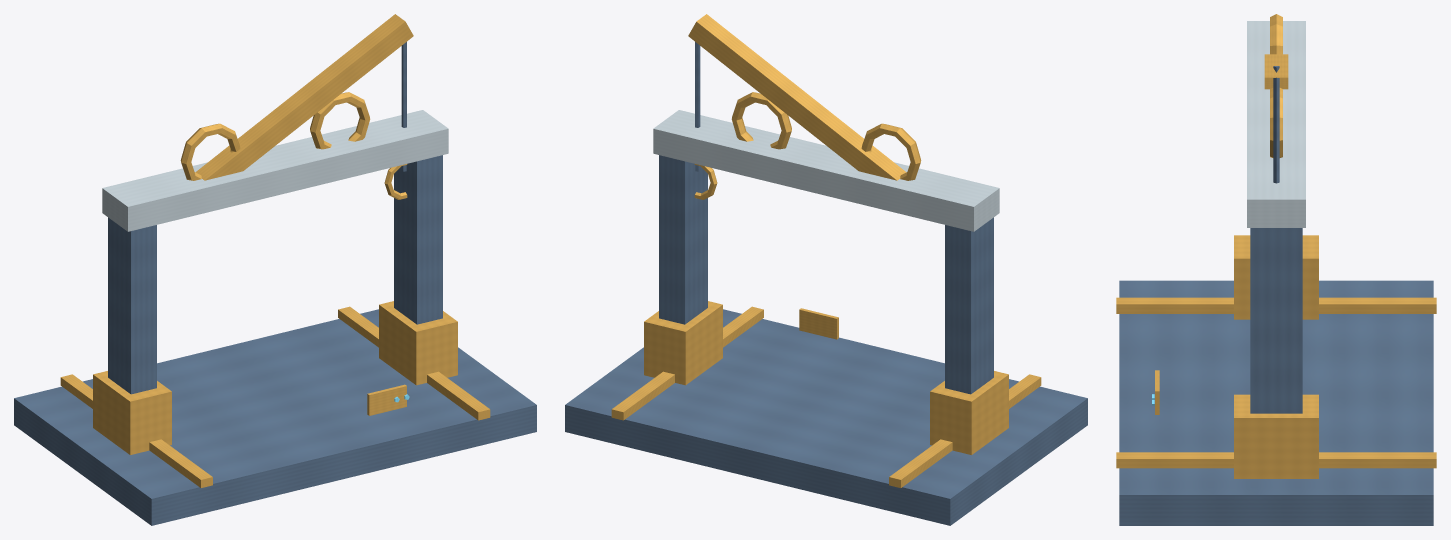
File: atlas100-s059-a01.lod1.glb
3 views of the same model, side by side, from view 1: azimuth 30°, elevation 25°; view 2: azimuth 150°, elevation 25°; view 3: azimuth 270°, elevation 25° (orthographic). The views are drawn at different scales.
Visible parts, largest first — view 1: atlas100-s059-a01:part-000, atlas100-s059-a01:part-007, atlas100-s059-a01:part-003, atlas100-s059-a01:part-005, atlas100-s059-a01:part-008, atlas100-s059-a01:part-004, atlas100-s059-a01:part-006, atlas100-s059-a01:part-002, atlas100-s059-a01:part-001, atlas100-s059-a01:part-012, atlas100-s059-a01:part-011, atlas100-s059-a01:part-013; view 2: atlas100-s059-a01:part-000, atlas100-s059-a01:part-007, atlas100-s059-a01:part-003, atlas100-s059-a01:part-005, atlas100-s059-a01:part-008, atlas100-s059-a01:part-004, atlas100-s059-a01:part-006, atlas100-s059-a01:part-002, atlas100-s059-a01:part-001, atlas100-s059-a01:part-012, atlas100-s059-a01:part-011, atlas100-s059-a01:part-013; view 3: atlas100-s059-a01:part-000, atlas100-s059-a01:part-007, atlas100-s059-a01:part-005, atlas100-s059-a01:part-006, atlas100-s059-a01:part-001, atlas100-s059-a01:part-002, atlas100-s059-a01:part-004, atlas100-s059-a01:part-008, atlas100-s059-a01:part-009, atlas100-s059-a01:part-012, atlas100-s059-a01:part-011.
Boxes of the visible parts, left/top/right/bottom form: atlas100-s059-a01:part-000: left=14, top=309, right=536, bottom=525; atlas100-s059-a01:part-007: left=102, top=110, right=448, bottom=231; atlas100-s059-a01:part-003: left=108, top=217, right=156, bottom=394; atlas100-s059-a01:part-005: left=394, top=155, right=442, bottom=324; atlas100-s059-a01:part-008: left=195, top=14, right=413, bottom=180; atlas100-s059-a01:part-004: left=93, top=371, right=171, bottom=454; atlas100-s059-a01:part-006: left=379, top=301, right=457, bottom=385; atlas100-s059-a01:part-002: left=338, top=306, right=490, bottom=420; atlas100-s059-a01:part-001: left=60, top=374, right=212, bottom=487; atlas100-s059-a01:part-012: left=310, top=92, right=370, bottom=149; atlas100-s059-a01:part-011: left=180, top=123, right=240, bottom=180; atlas100-s059-a01:part-013: left=367, top=384, right=406, bottom=415; atlas100-s059-a01:part-000: left=565, top=309, right=1087, bottom=525; atlas100-s059-a01:part-007: left=653, top=110, right=999, bottom=231; atlas100-s059-a01:part-003: left=945, top=217, right=993, bottom=394; atlas100-s059-a01:part-005: left=659, top=155, right=707, bottom=324; atlas100-s059-a01:part-008: left=688, top=14, right=906, bottom=180; atlas100-s059-a01:part-004: left=930, top=371, right=1008, bottom=454; atlas100-s059-a01:part-006: left=644, top=301, right=722, bottom=385; atlas100-s059-a01:part-002: left=611, top=306, right=763, bottom=420; atlas100-s059-a01:part-001: left=889, top=374, right=1041, bottom=487; atlas100-s059-a01:part-012: left=731, top=92, right=791, bottom=149; atlas100-s059-a01:part-011: left=861, top=123, right=921, bottom=180; atlas100-s059-a01:part-013: left=799, top=308, right=838, bottom=339; atlas100-s059-a01:part-000: left=1119, top=280, right=1433, bottom=525; atlas100-s059-a01:part-007: left=1247, top=21, right=1305, bottom=227; atlas100-s059-a01:part-005: left=1250, top=228, right=1302, bottom=413; atlas100-s059-a01:part-006: left=1234, top=394, right=1318, bottom=478; atlas100-s059-a01:part-001: left=1116, top=297, right=1436, bottom=313; atlas100-s059-a01:part-002: left=1116, top=452, right=1436, bottom=468; atlas100-s059-a01:part-004: left=1234, top=235, right=1318, bottom=319; atlas100-s059-a01:part-008: left=1264, top=54, right=1288, bottom=89; atlas100-s059-a01:part-009: left=1273, top=66, right=1279, bottom=183; atlas100-s059-a01:part-012: left=1270, top=88, right=1282, bottom=157; atlas100-s059-a01:part-011: left=1270, top=14, right=1282, bottom=54.
Bounding box in the file's own units: 3.88 × 3.66 × 2.45.
4 materials, 4 textured.
